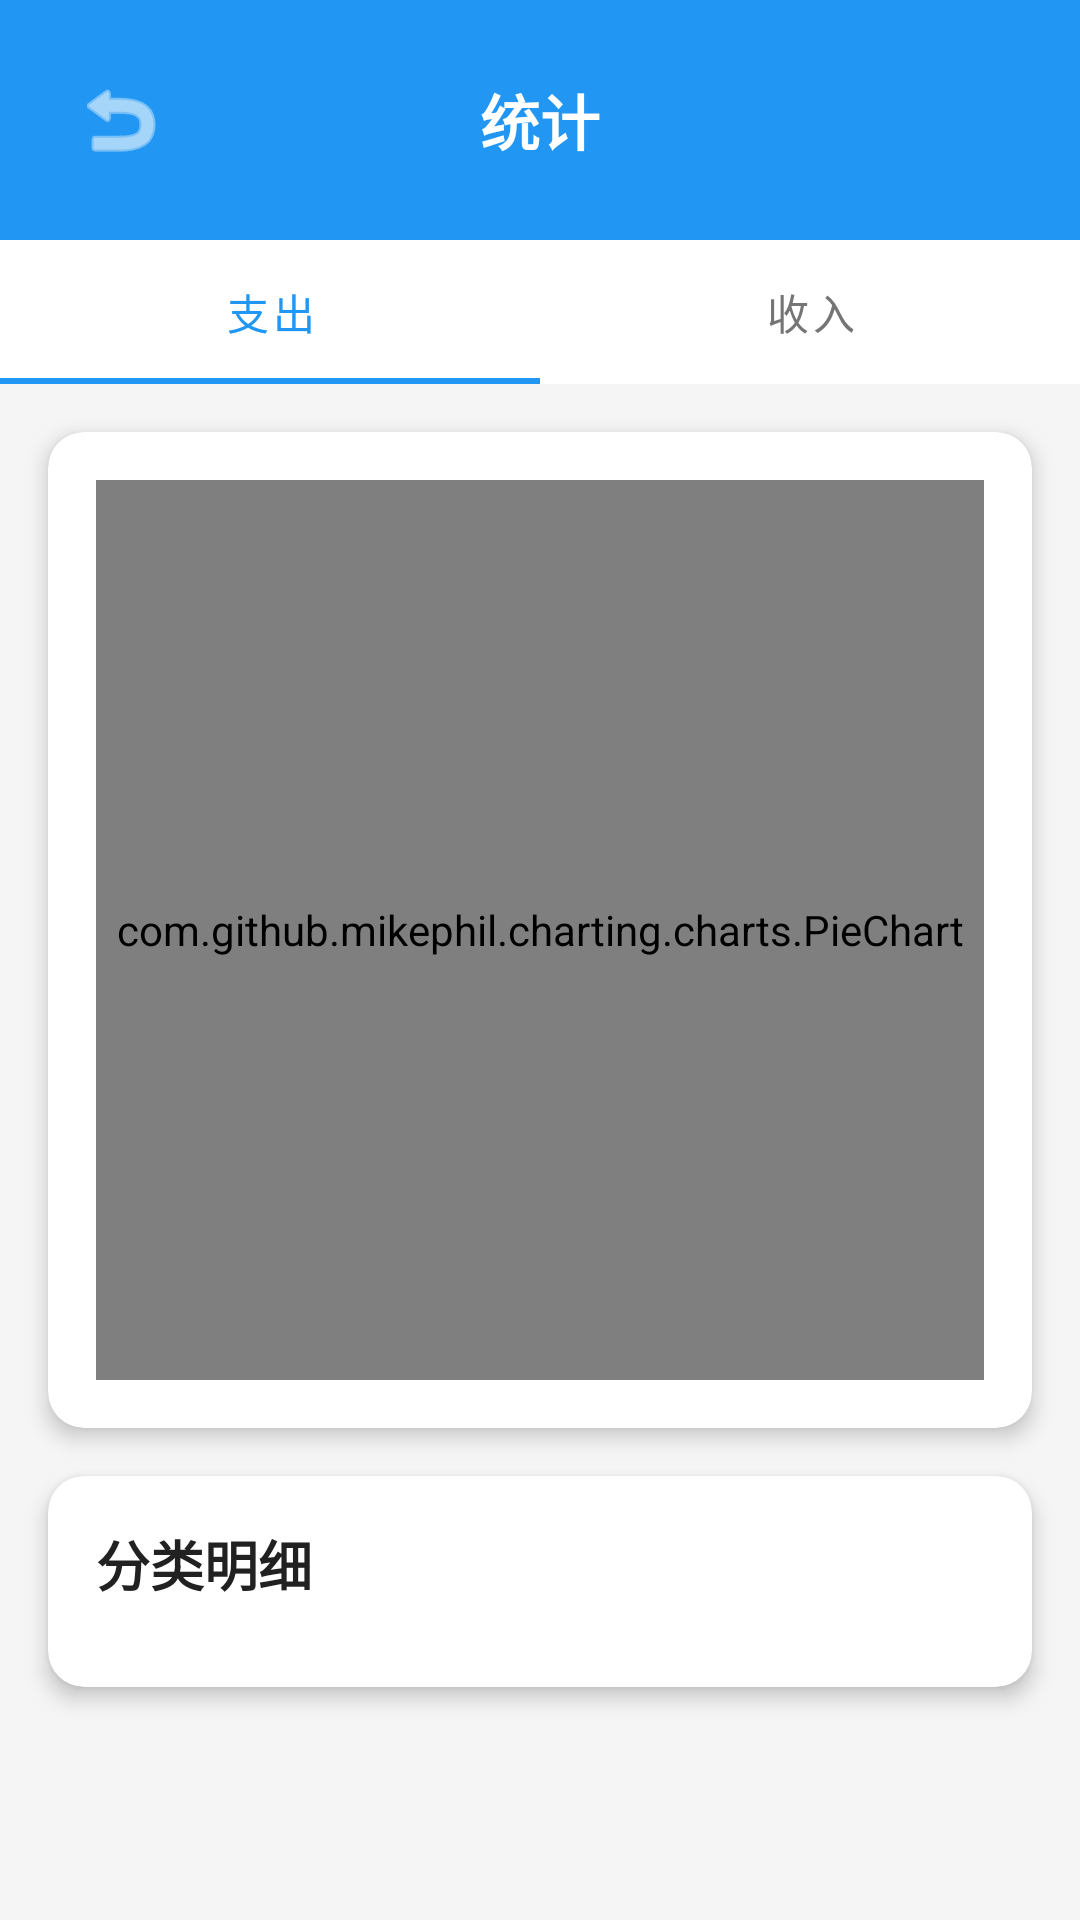

Icon click points for this 1080x1920 phone screenshot, format point (x, y):
取消: point (121, 120)
